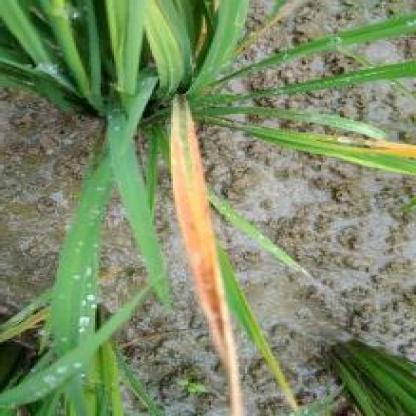Tungro: (165, 85, 236, 413)
